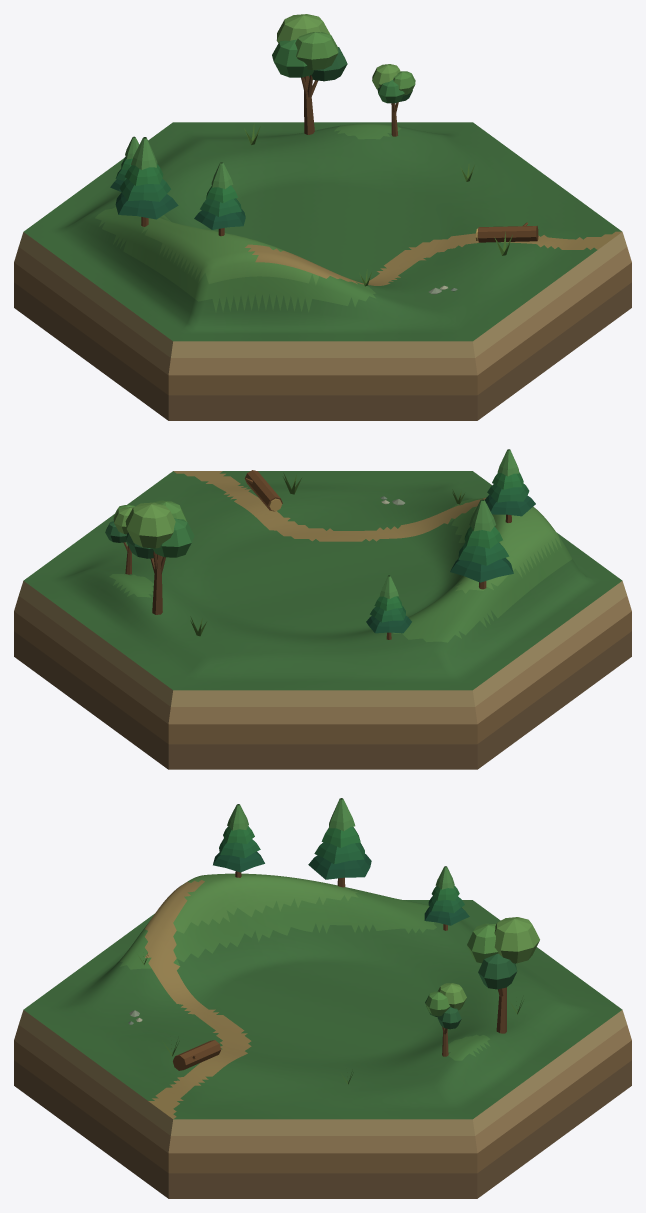
File: catan_terrain_forest_03.glb
3 renders of one model, top to bottom at view 1: azimuth 30°, elevation 25°; view 2: azimuth 150°, elevation 25°; view 3: azimuth 270°, elevation 25°, orthographic.
Visible parts, largest first — view 1: catan_terrain_forest_03_ground, catan_terrain_forest_03_decoration; view 2: catan_terrain_forest_03_ground, catan_terrain_forest_03_decoration; view 3: catan_terrain_forest_03_ground, catan_terrain_forest_03_decoration.
Boxes of the visible parts, x1=… form: catan_terrain_forest_03_ground: x1=14, y1=122, x2=631, y2=420; catan_terrain_forest_03_decoration: x1=110, y1=14, x2=538, y2=294; catan_terrain_forest_03_ground: x1=14, y1=471, x2=631, y2=769; catan_terrain_forest_03_decoration: x1=105, y1=449, x2=535, y2=639; catan_terrain_forest_03_ground: x1=14, y1=873, x2=631, y2=1198; catan_terrain_forest_03_decoration: x1=128, y1=798, x2=539, y2=1084.
Bounding box in the file's own units: 1.71 × 0.7421 × 1.97.
